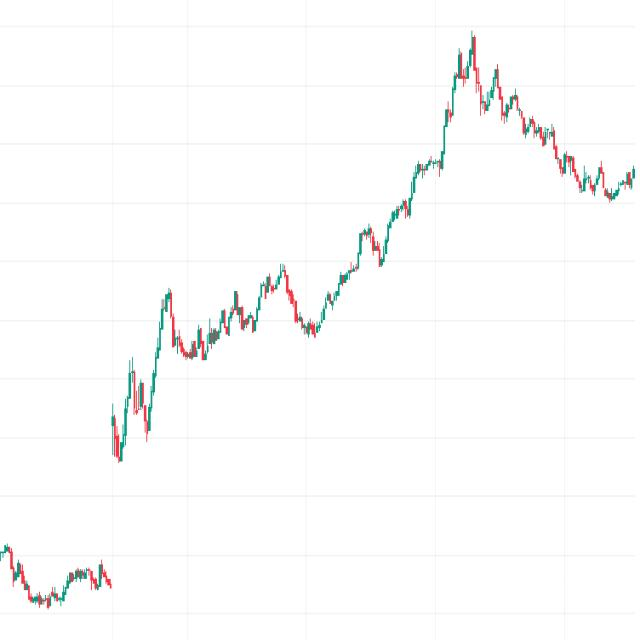Cup-and-handle: (274, 214, 398, 354), (165, 263, 272, 377)
